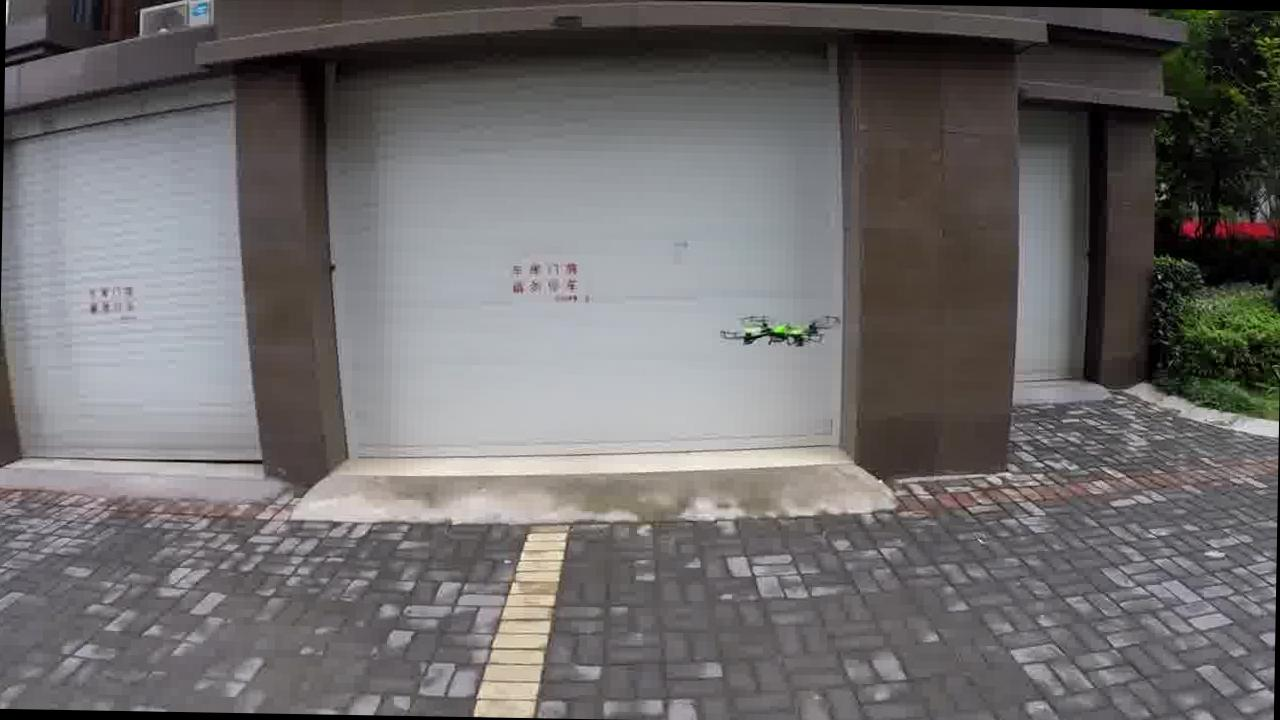drone: (708, 304, 847, 360)
